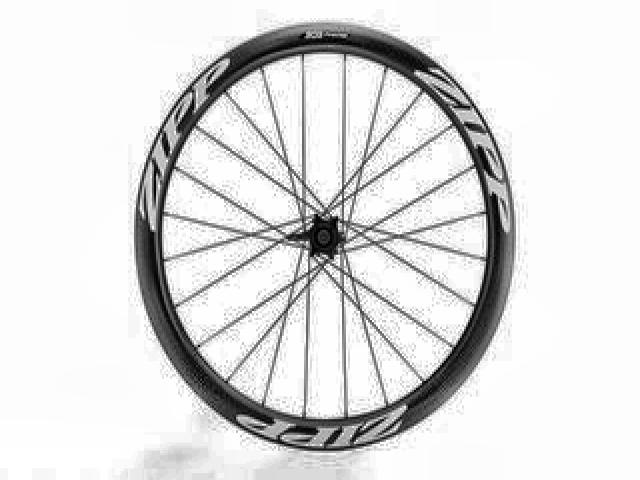wheel: (132, 18, 522, 454)
